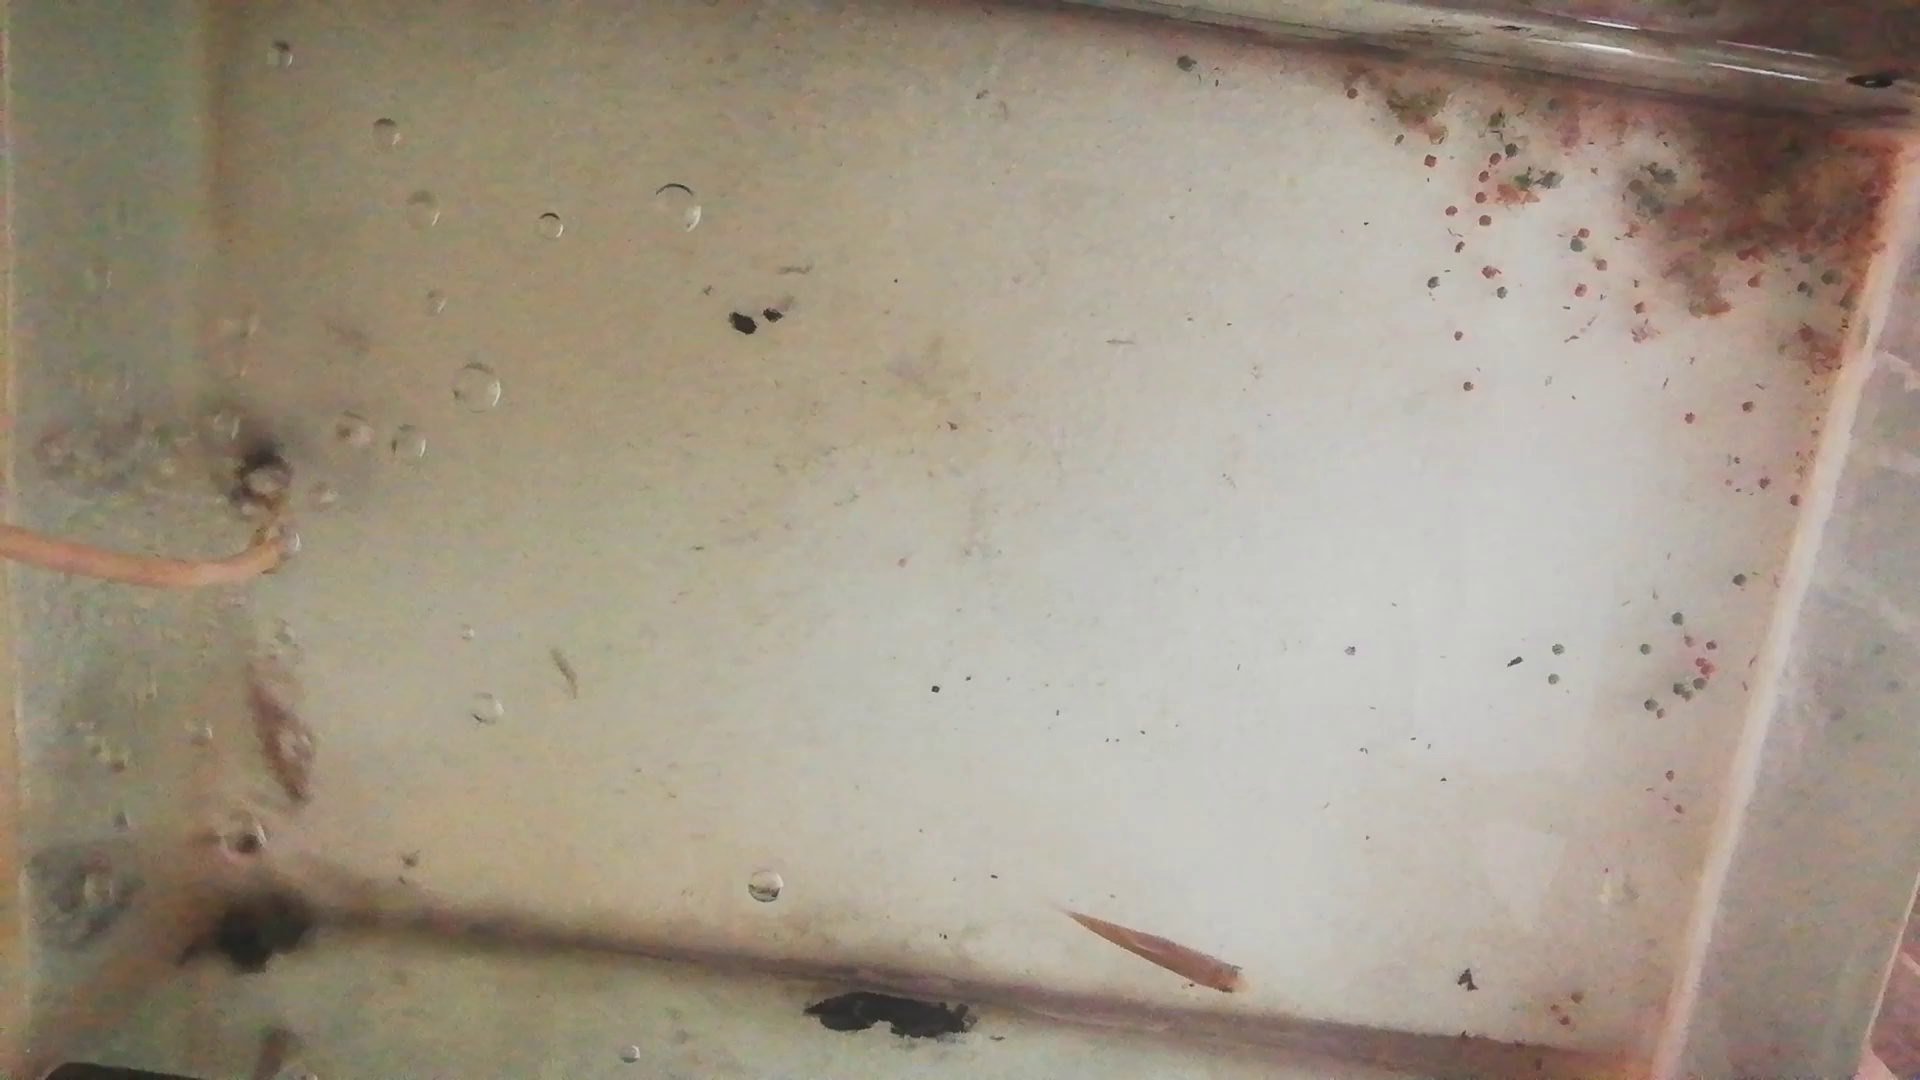fish: (1065, 911, 1250, 1000), (239, 636, 319, 811)
